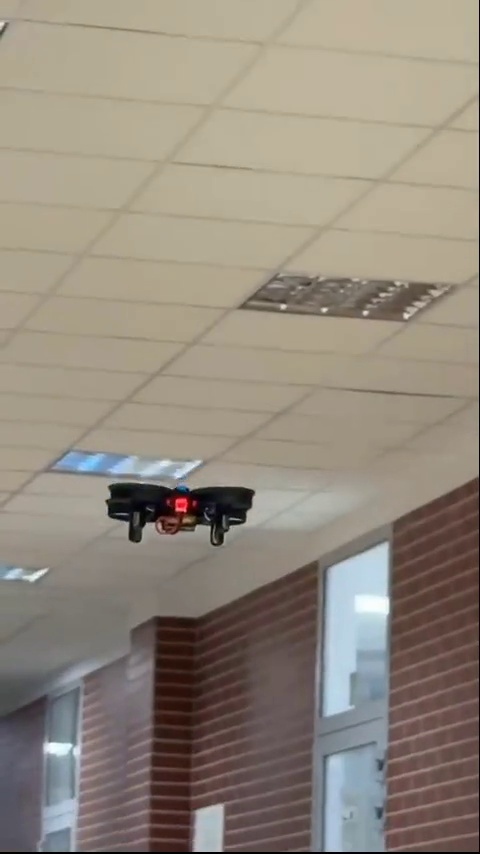drone: (105, 481, 255, 554)
